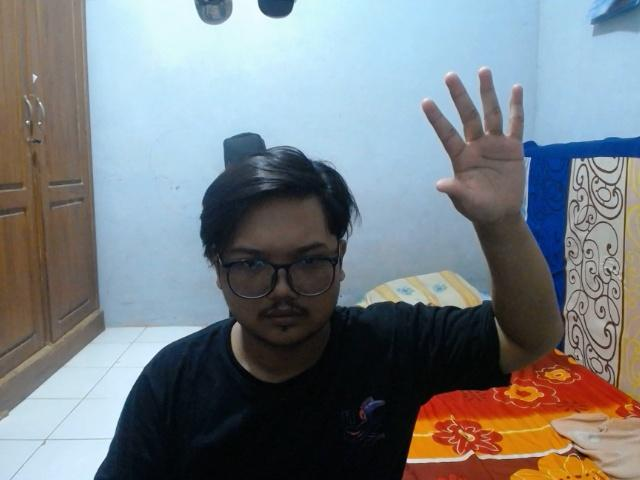Release: (414, 61, 537, 233)
